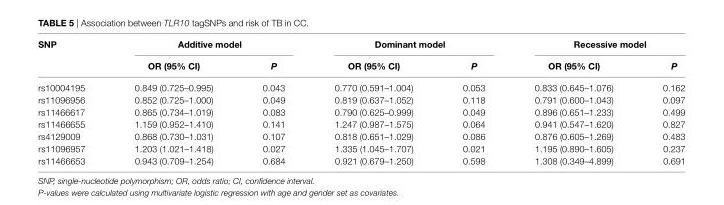table: (37, 37, 684, 165)
table column: (109, 37, 237, 165), (309, 37, 437, 165), (509, 37, 637, 165), (37, 37, 109, 165), (237, 37, 309, 165), (437, 37, 509, 165), (637, 37, 684, 165)
table column header: (37, 37, 684, 75)
table row: (37, 54, 684, 75), (37, 37, 684, 54), (37, 75, 684, 92), (37, 92, 684, 105), (37, 105, 684, 117), (37, 117, 684, 129), (37, 129, 684, 141), (37, 141, 684, 153), (37, 153, 684, 165)
table spanning cell: (109, 37, 309, 54), (309, 37, 509, 54), (509, 37, 684, 54), (37, 37, 109, 75)
